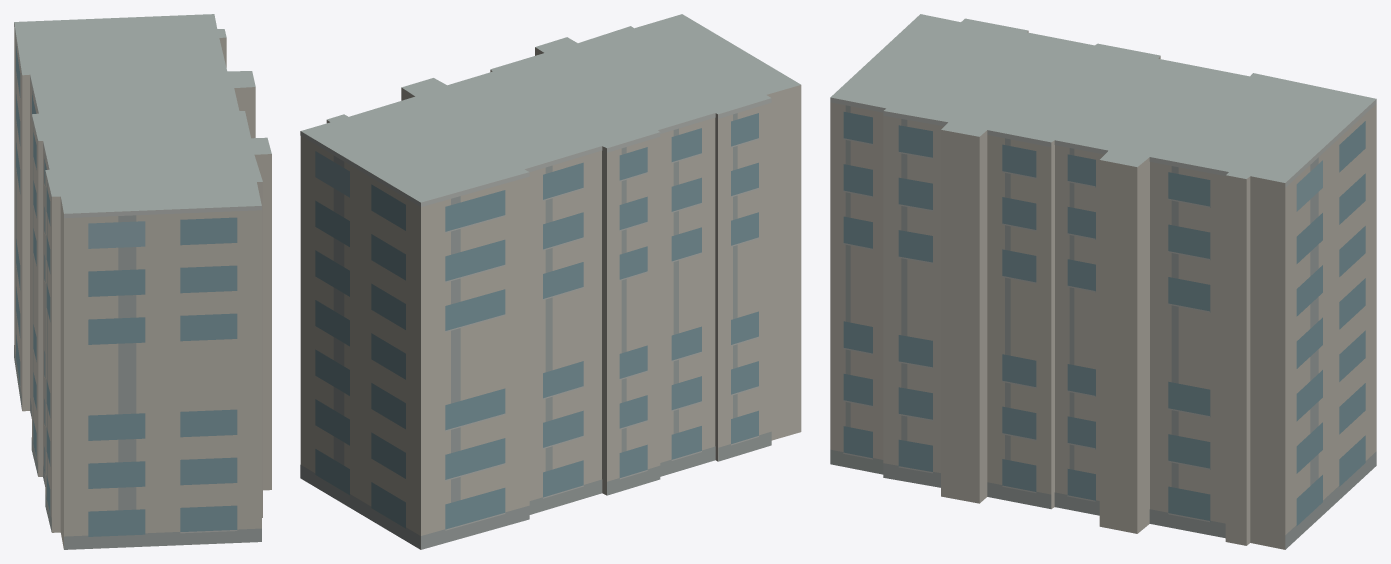
Rendered from survey-upis-32550905.glb.
3 views of the same model, side by side, from view 1: azimuth 30°, elevation 25°; view 2: azimuth 150°, elevation 25°; view 3: azimuth 270°, elevation 25° (orthographic). The views are drawn at different scales.
Parts seen in each view (by area): view 1: survey-upis-32550905.tmp; view 2: survey-upis-32550905.tmp; view 3: survey-upis-32550905.tmp.
Boxes of the visible parts, x1,y1,x2,y2 form: survey-upis-32550905.tmp: (14, 14, 271, 549); survey-upis-32550905.tmp: (300, 14, 801, 549); survey-upis-32550905.tmp: (830, 14, 1376, 549).
Bounding box in the file's own units: 18.3 × 18.5 × 24.98.
